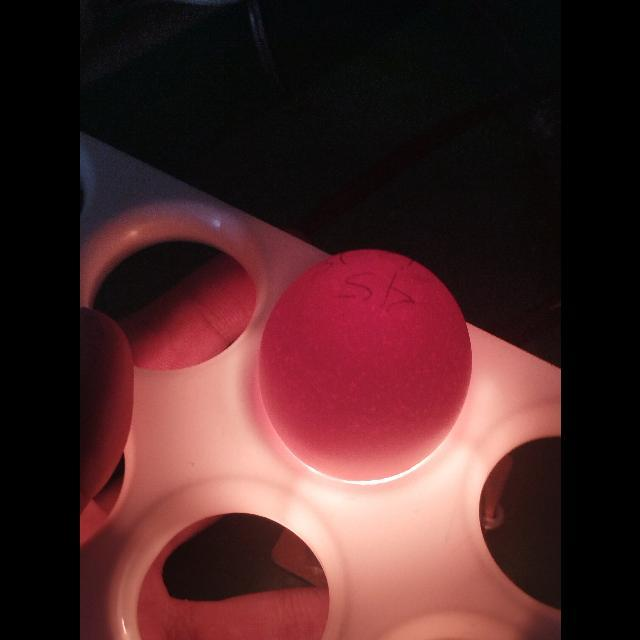Fertile: (260, 253, 468, 469)
